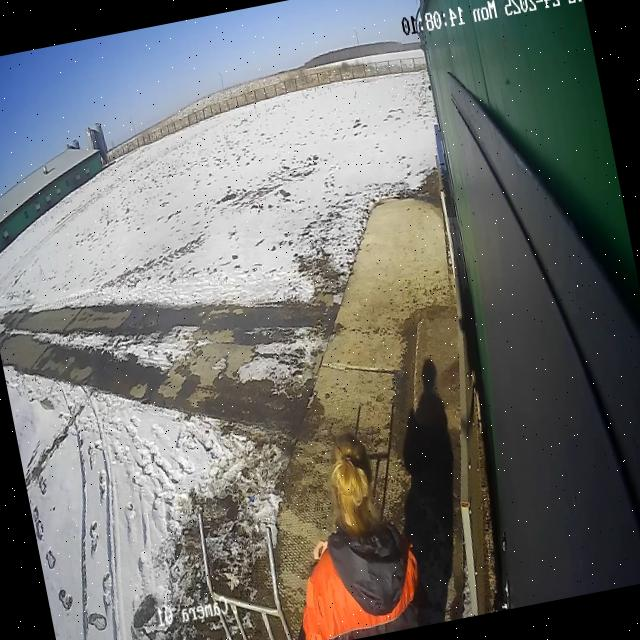Red uniform: (301, 434, 419, 640)
